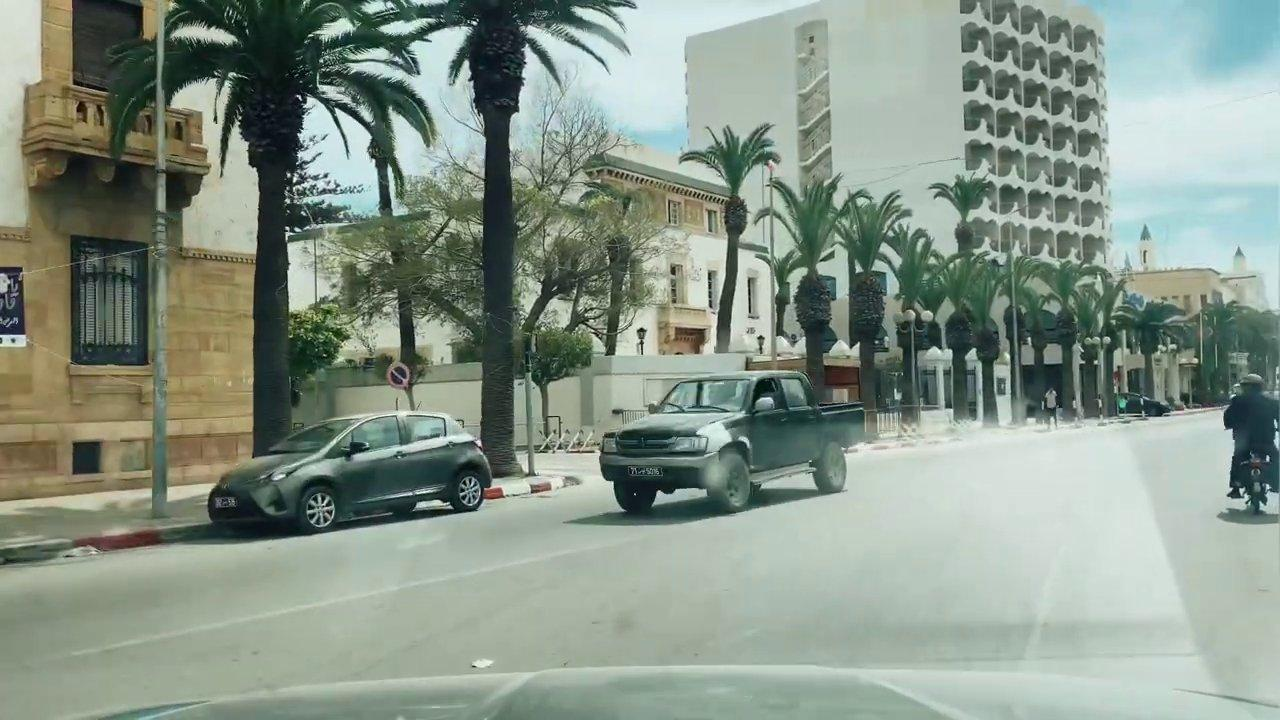no parking: (384, 360, 414, 391)
